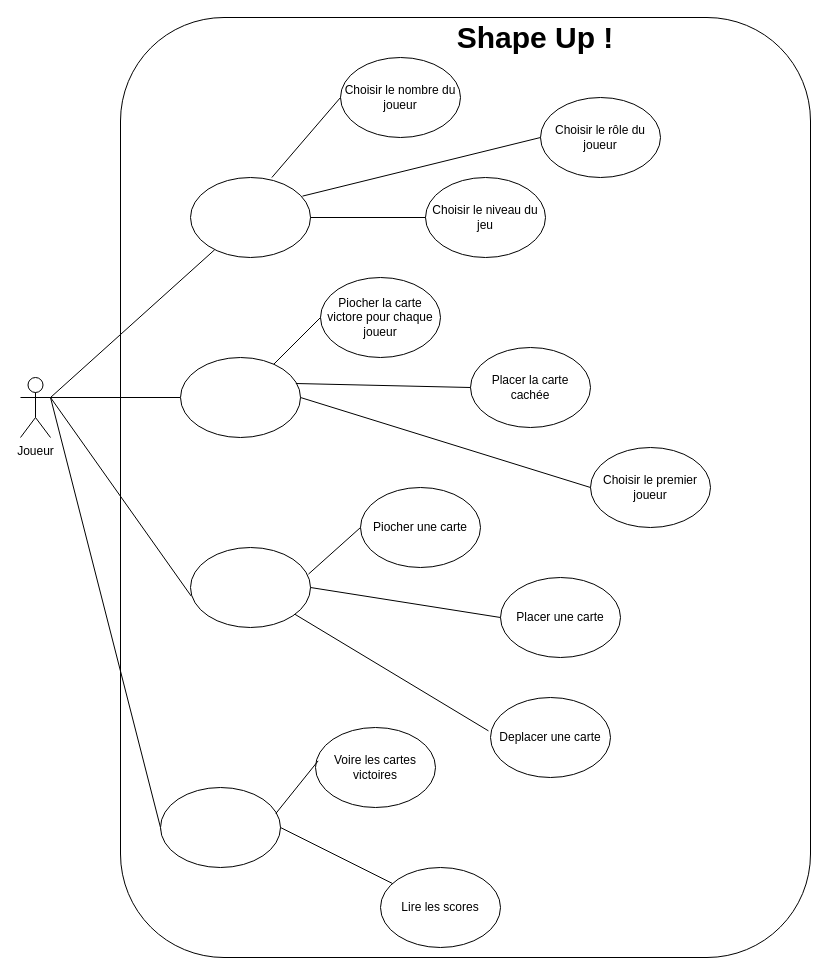
The diagram is 828 pixels wide and 975 high, and some of its shapes have lost their labels. The shapes that lost their labels are listed below. From the top down, each one's box as (x1, y1, x2, y2) in pixels, then its label:
(190, 176, 310, 258): Installer le jeu
(180, 356, 300, 438): Installer son tour
(190, 546, 310, 628): Jouer son tour
(160, 786, 280, 868): Finir la partie
